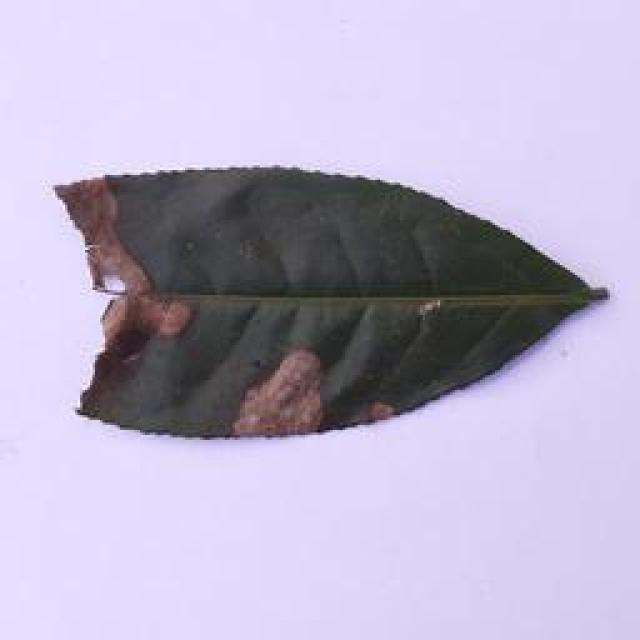Gray Blight: (53, 163, 617, 445)
